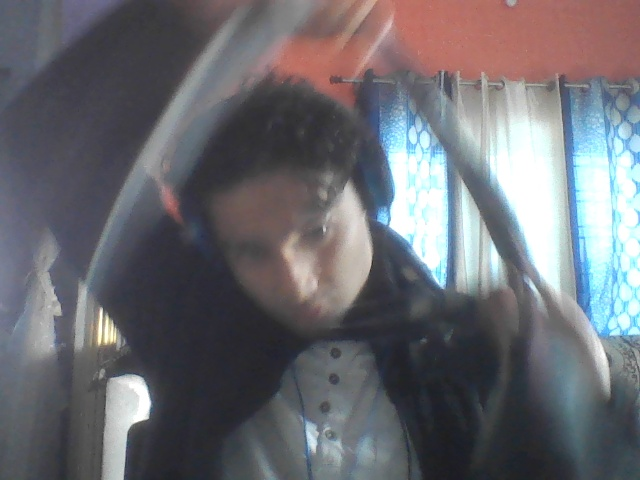real: (209, 95, 375, 331)
